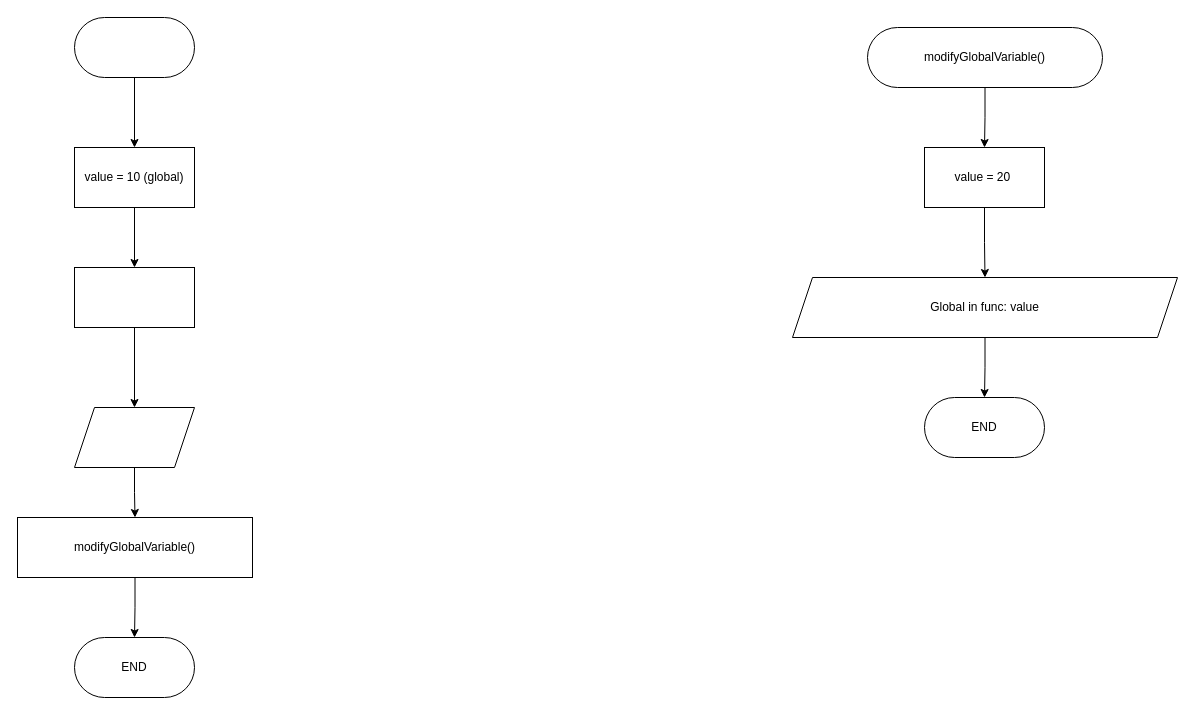
Some shapes in this 1195 by 715 pixel diagram are drawn without their labels. The centre of each missing label's shape, as x and y in pixels:
Local: value: (134,437)
Main: (134,47)
value = 5: (134,297)
